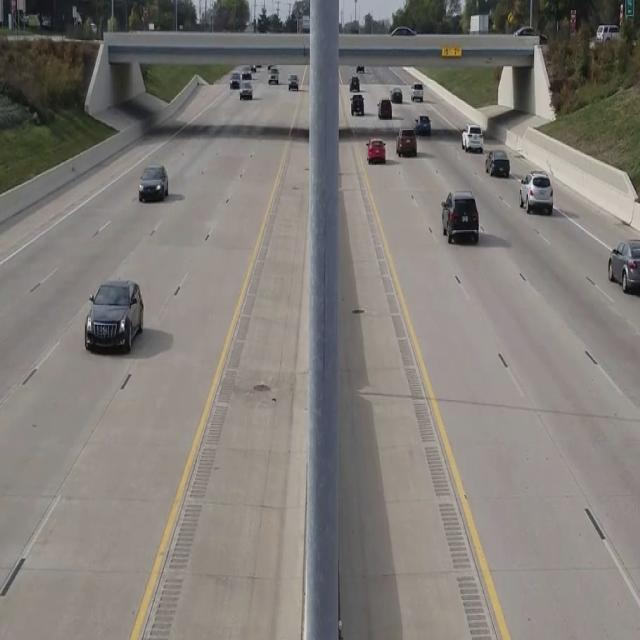car: (84, 278, 144, 352), (441, 190, 479, 244), (607, 239, 640, 295), (519, 171, 554, 214), (138, 165, 168, 203), (485, 150, 510, 178), (460, 124, 482, 151), (366, 136, 386, 164)
